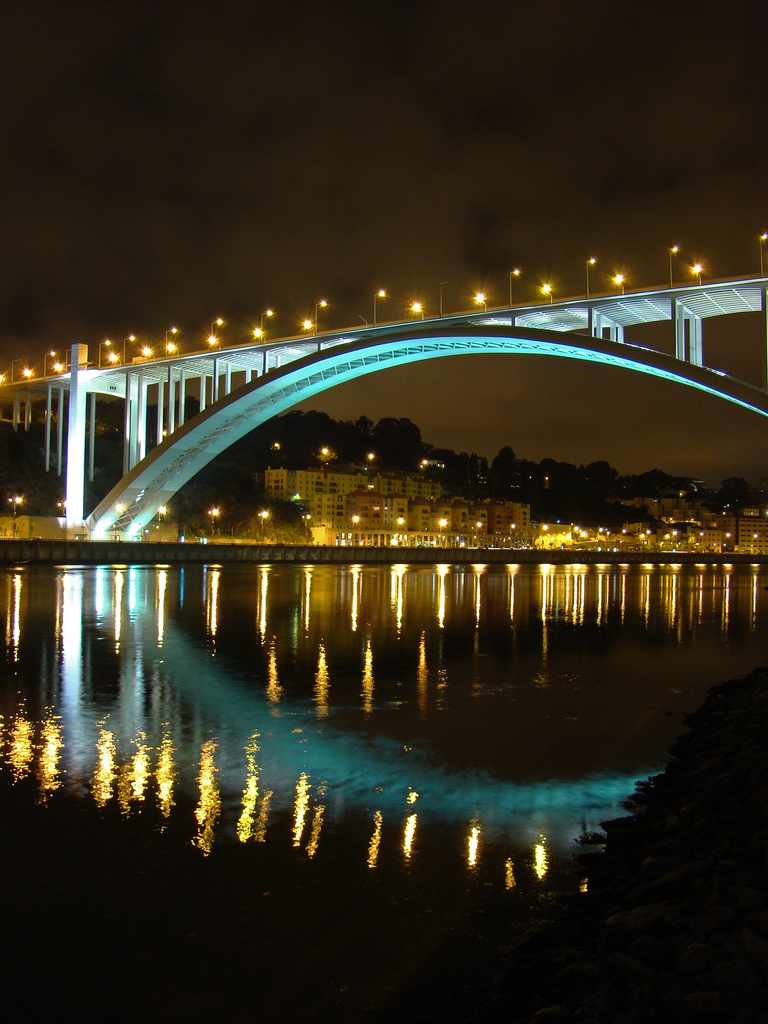arrabida: (0, 270, 767, 543)
